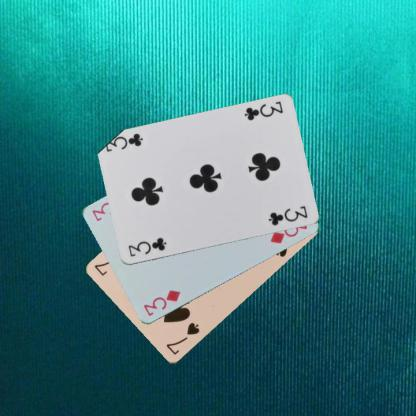3c: (241, 99, 284, 122), (126, 235, 168, 258)
3d: (140, 287, 182, 318)
7s: (163, 320, 201, 357)
